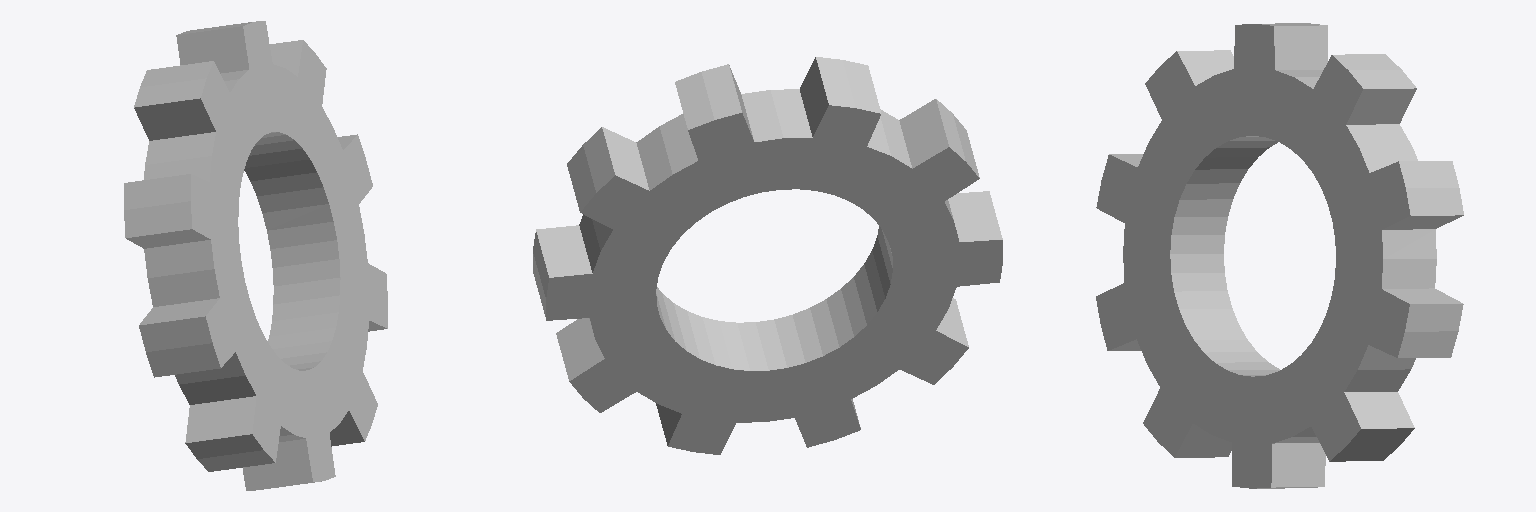
File: Collectible_Gear_Gear.obj
The picture shows the model from 3 angles: view 1: azimuth 30°, elevation 25°; view 2: azimuth 150°, elevation 25°; view 3: azimuth 270°, elevation 25°; orthographic projection.
Visible parts, largest first — view 1: Collectible_Gear_Gear; view 2: Collectible_Gear_Gear; view 3: Collectible_Gear_Gear.
Boxes of the visible parts, box(x1,y1,x2,y2) form: Collectible_Gear_Gear: box(124, 21, 387, 490); Collectible_Gear_Gear: box(533, 57, 1002, 454); Collectible_Gear_Gear: box(1096, 23, 1463, 488).
Bounding box in the file's own units: 0.3511 × 0.3967 × 0.3182.